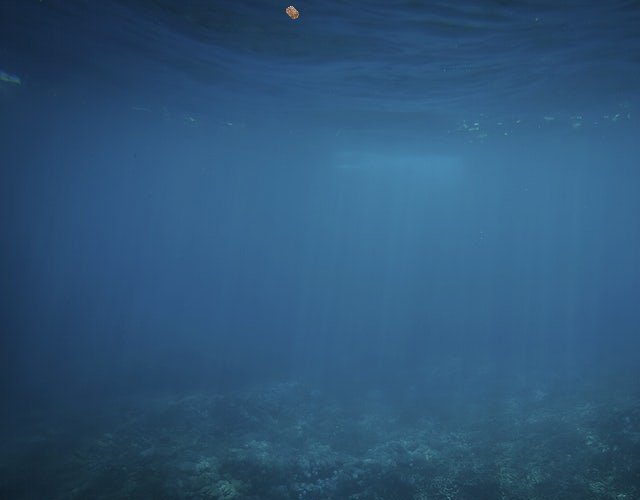Pellet: (278, 0, 306, 27)
